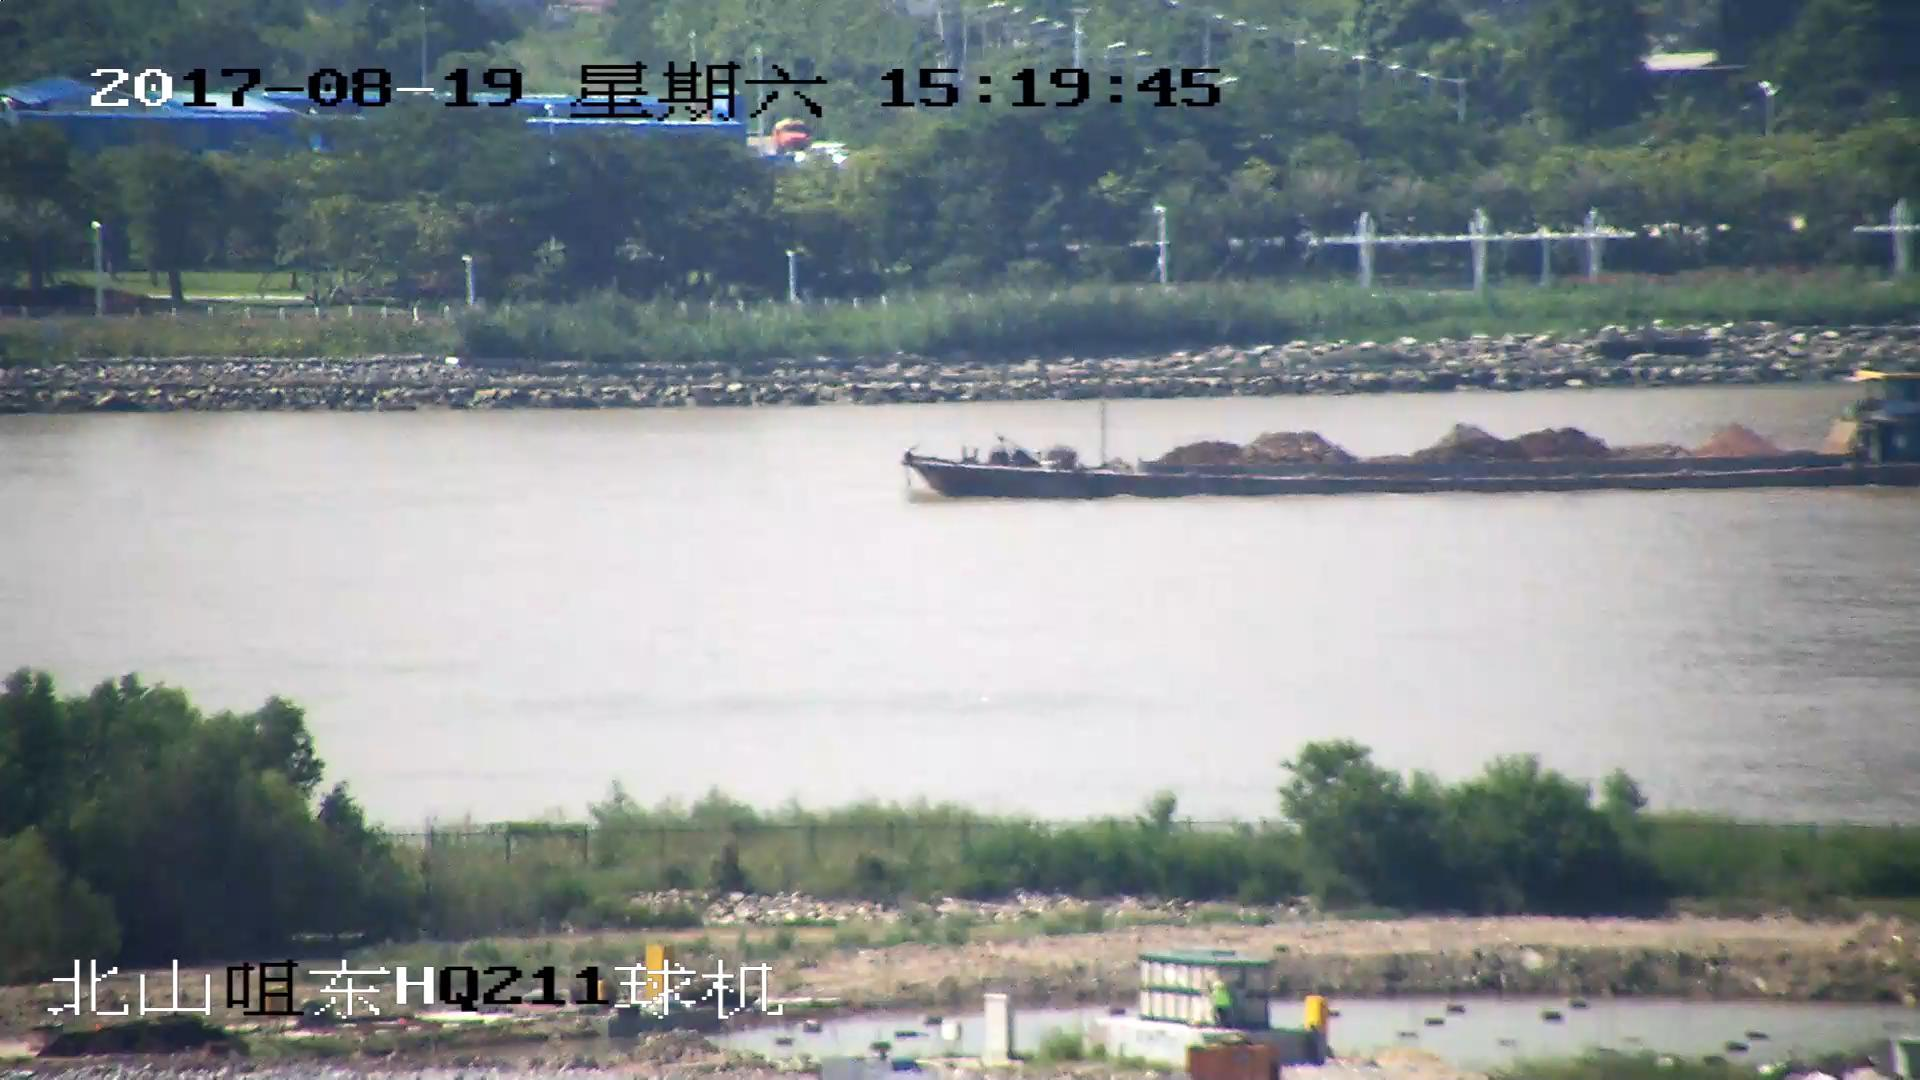Ship: (905, 373, 1920, 501)
